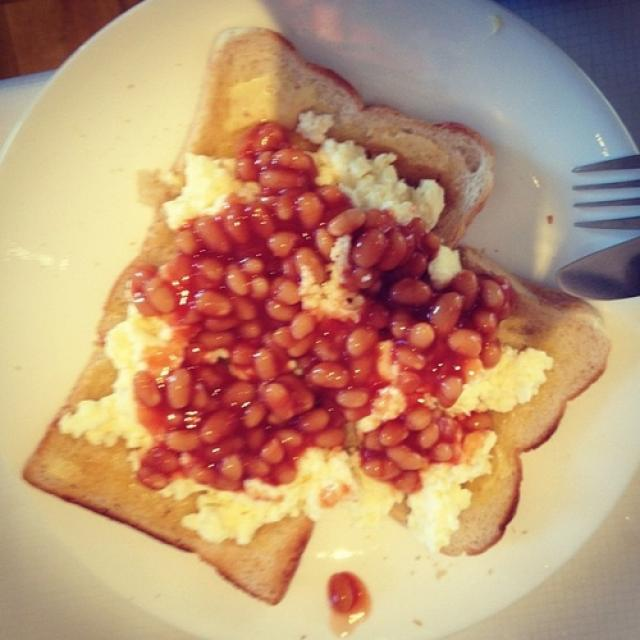鸡蛋料理: (12, 18, 627, 626)
